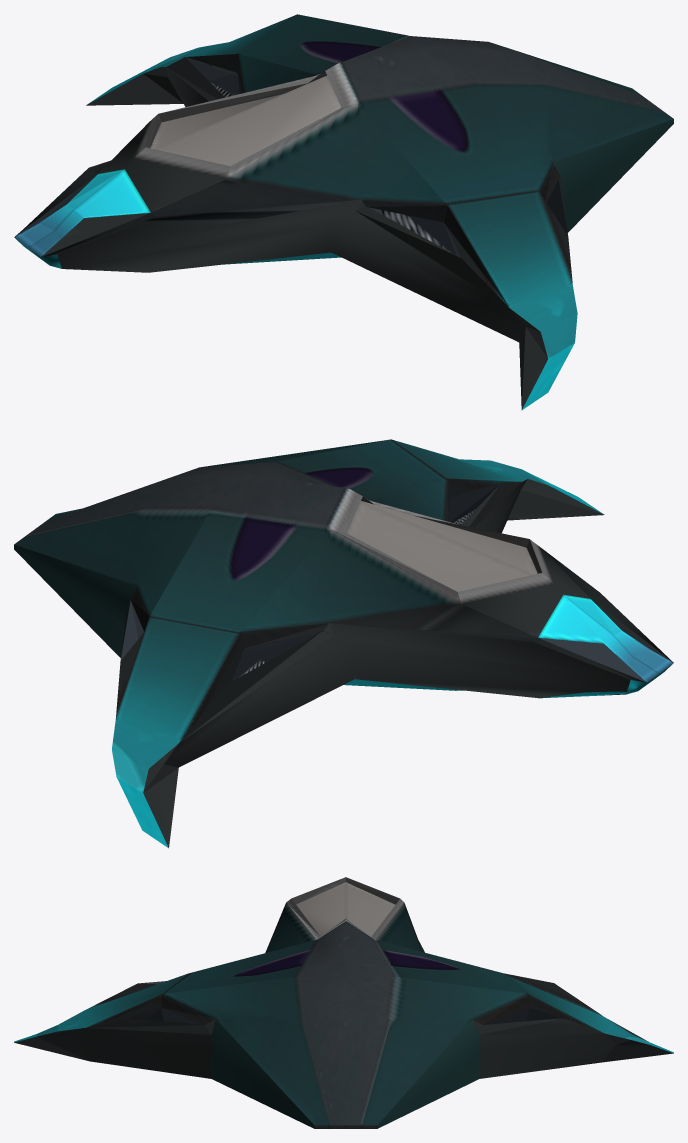
File: SpaceShip2.FBX
The picture shows the model from 3 angles, top to bottom: view 1: azimuth 30°, elevation 25°; view 2: azimuth 150°, elevation 25°; view 3: azimuth 270°, elevation 25°; orthographic projection. The views are drawn at different scales.
Parts seen in each view (by area): view 1: Box001; view 2: Box001; view 3: Box001.
Part boxes in pixels (<box>): Box001: <box>14,14,673,410</box>; Box001: <box>14,439,673,848</box>; Box001: <box>14,877,673,1128</box>.
Size of the model in its own units: 93.31 by 27.4 by 113.
